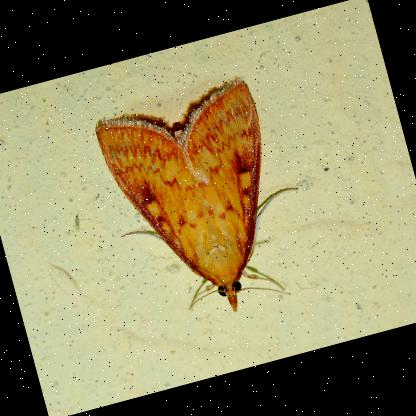Asian Corn Borer Moth: (86, 67, 328, 340)
